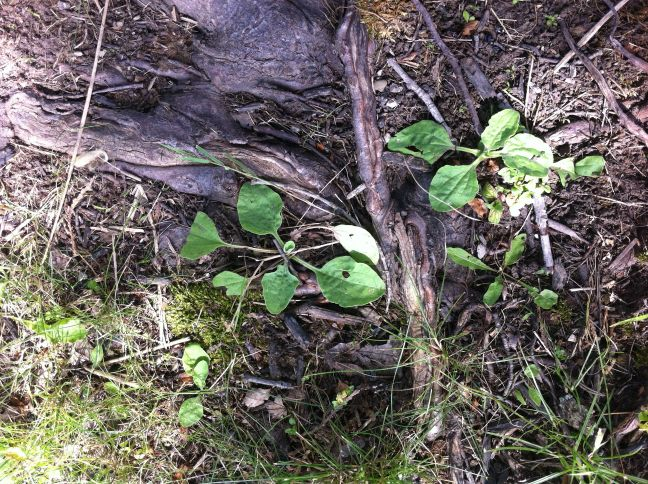weed1: (179, 180, 388, 318), (382, 105, 610, 215)
